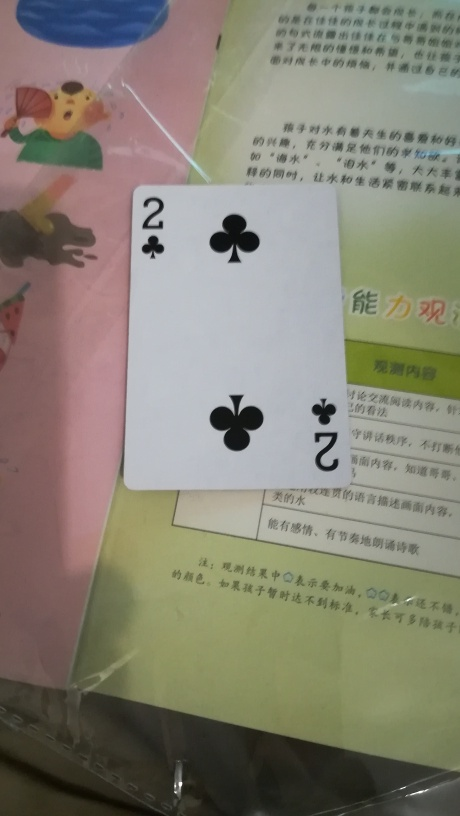mh 2: (126, 180, 351, 495)
